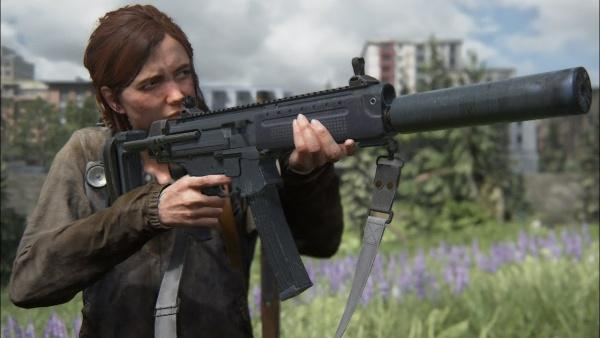rifle: (104, 52, 598, 302)
